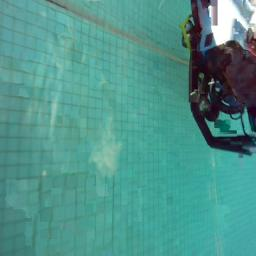front: (181, 1, 256, 154)
